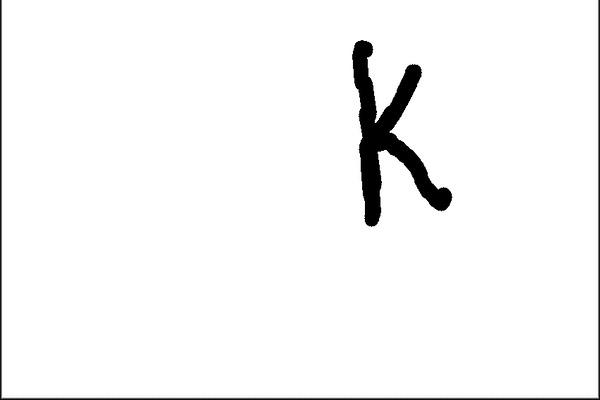K: (343, 31, 456, 230)
